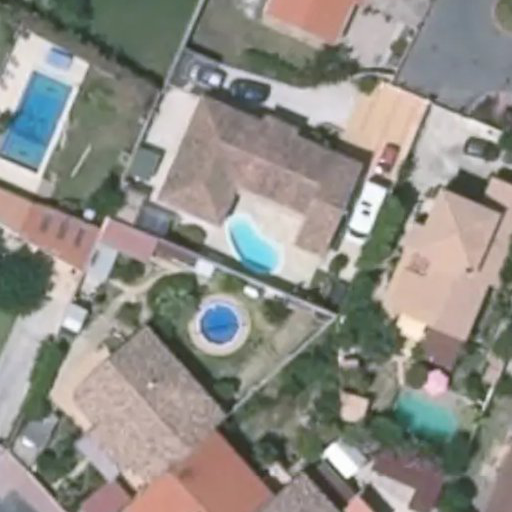pool: (214, 235, 292, 251)
